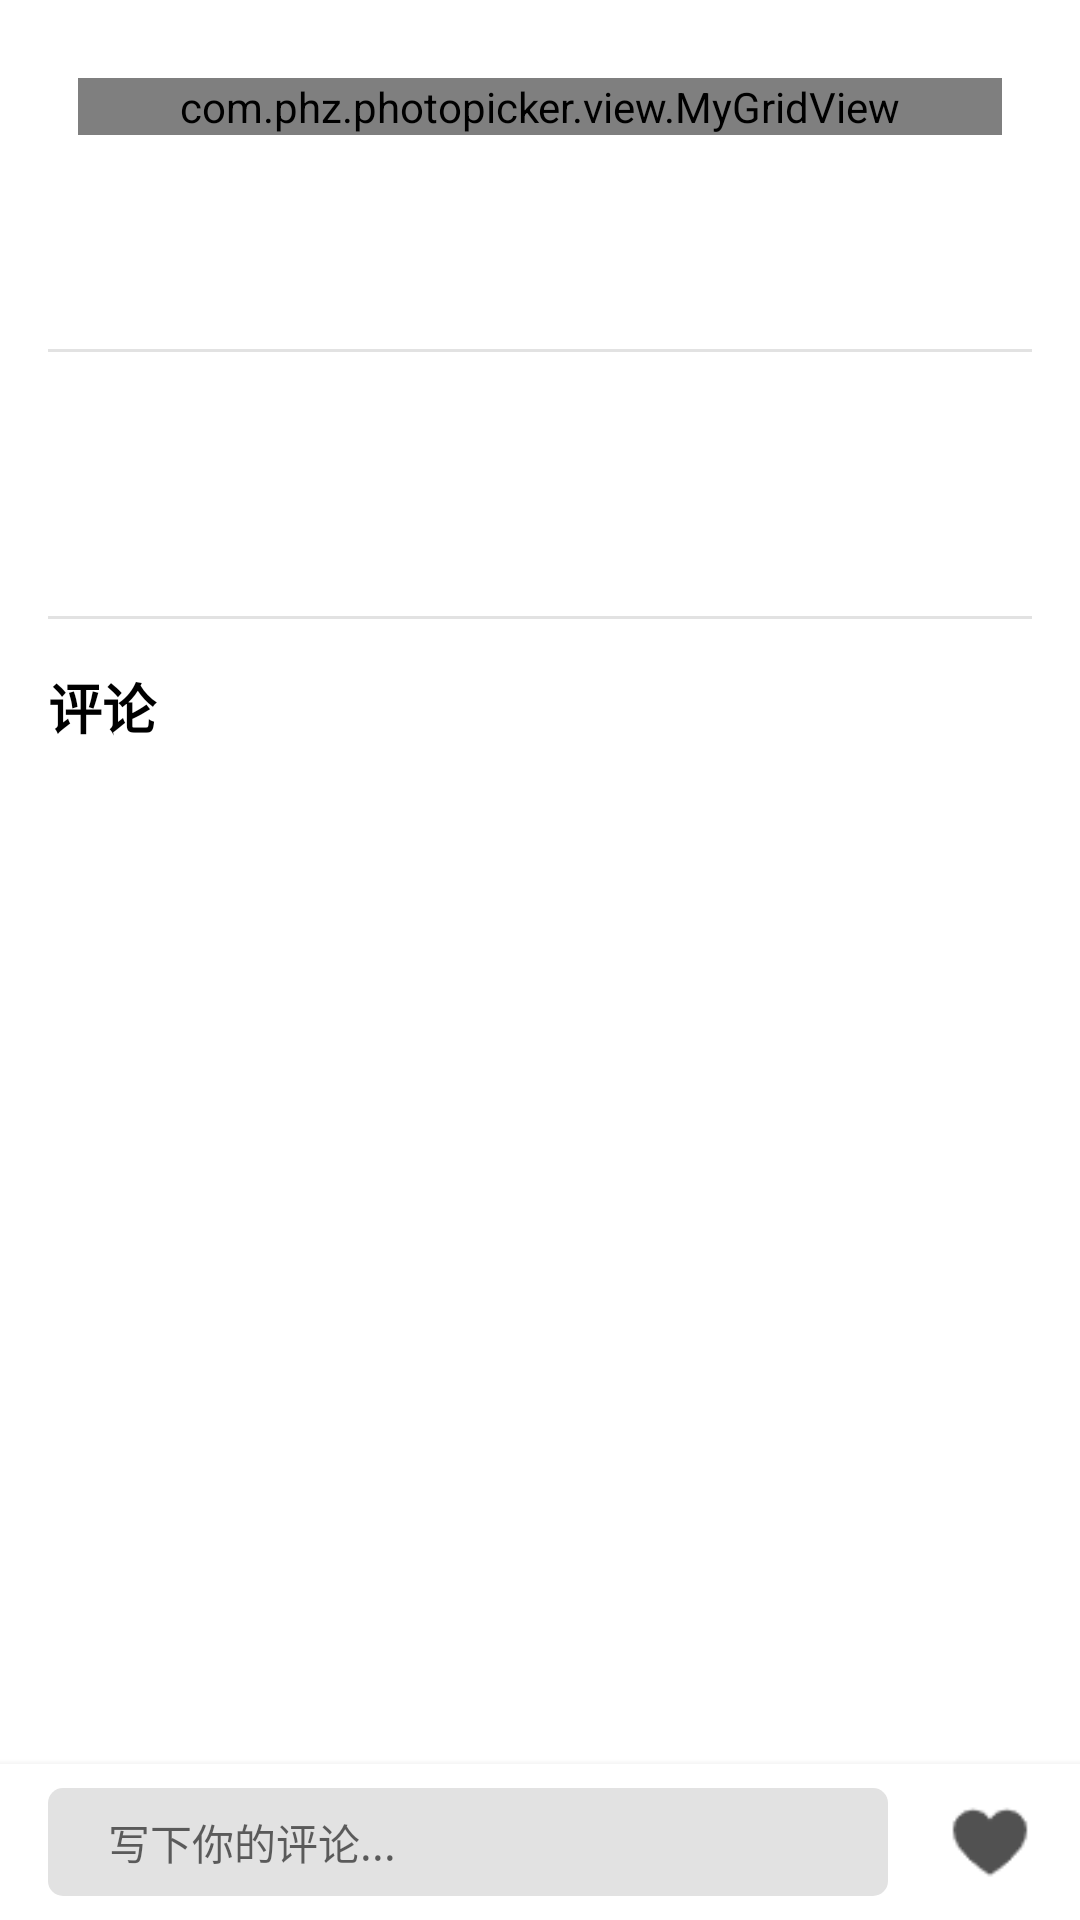

Named icons in this screenshot (1080×1920) and their centers, (x=x, y=y):
fav: (x=990, y=1842)
